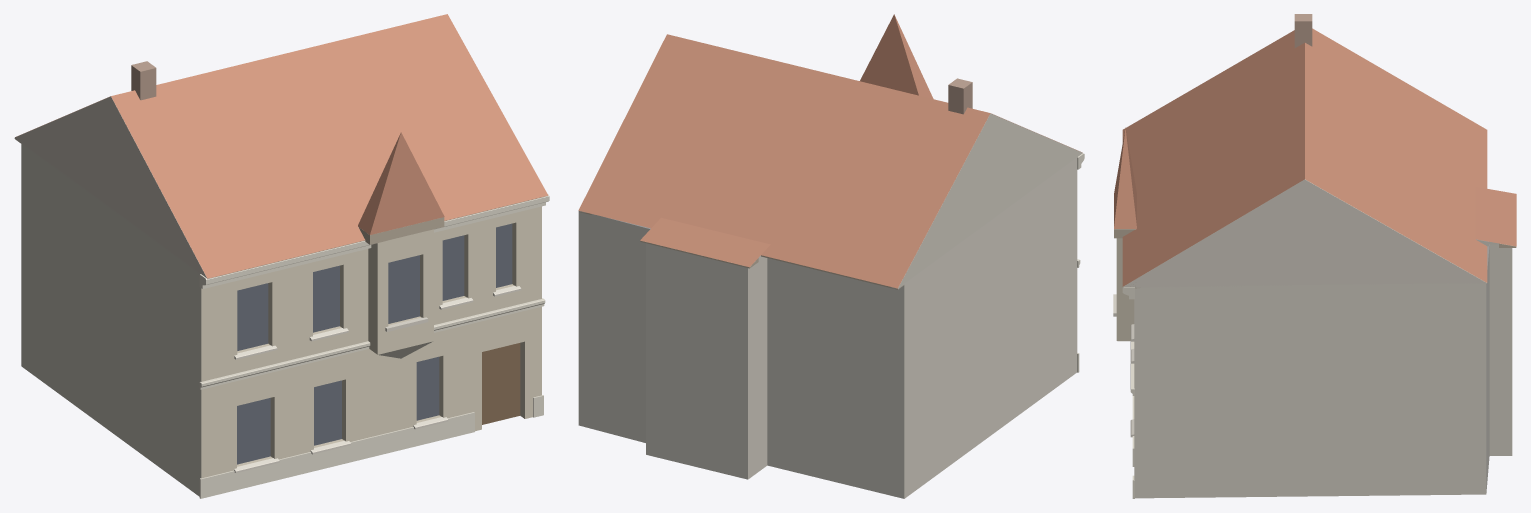
3 views of the same model, side by side, from view 1: azimuth 30°, elevation 25°; view 2: azimuth 150°, elevation 25°; view 3: azimuth 270°, elevation 25° (orthographic). The views are drawn at different scales.
Parts seen in each view (by area): view 1: CP_1192_Masonry, CP_1192_Roof, CP_1192_Gable_L_gable, CP_1192_Oriel_bay, CP_1192_Cornice_plinth_0, CP_1192_WingRoof_Oriel_bay, CP_1192_Cornice_main_0, CP_1192_Cornice_string_0, CP_1192_Chimney_0; view 2: CP_1192_Masonry, CP_1192_Roof, CP_1192_Gable_L_gable, CP_1192_WingRoof_RearWing, CP_1192_WingRoof_Oriel_bay, CP_1192_Chimney_0; view 3: CP_1192_Masonry, CP_1192_Roof, CP_1192_Gable_R_gable, CP_1192_WingRoof_RearWing, CP_1192_WingRoof_Oriel_bay, CP_1192_Oriel_bay, CP_1192_Chimney_0.
Part boxes in pixels (box(x1,y1,x2,y2)): CP_1192_Masonry: box(21, 143, 541, 496); CP_1192_Roof: box(15, 14, 548, 278); CP_1192_Gable_L_gable: box(14, 96, 214, 279); CP_1192_Oriel_bay: box(368, 229, 433, 354); CP_1192_Cornice_plinth_0: box(199, 412, 474, 498); CP_1192_WingRoof_Oriel_bay: box(358, 132, 444, 234); CP_1192_Cornice_main_0: box(199, 194, 549, 288); CP_1192_Cornice_string_0: box(199, 298, 545, 389); CP_1192_Chimney_0: box(131, 61, 156, 100); CP_1192_Masonry: box(578, 157, 1077, 498); CP_1192_Roof: box(578, 34, 1082, 288); CP_1192_Gable_L_gable: box(891, 113, 1082, 288); CP_1192_WingRoof_RearWing: box(640, 217, 770, 267); CP_1192_WingRoof_Oriel_bay: box(860, 14, 933, 98); CP_1192_Chimney_0: box(948, 78, 972, 114); CP_1192_Masonry: box(1134, 244, 1512, 498); CP_1192_Roof: box(1122, 28, 1487, 286); CP_1192_Gable_R_gable: box(1123, 179, 1486, 287); CP_1192_WingRoof_RearWing: box(1475, 186, 1516, 246); CP_1192_WingRoof_Oriel_bay: box(1114, 127, 1136, 228); CP_1192_Oriel_bay: box(1116, 238, 1134, 340); CP_1192_Chimney_0: box(1294, 14, 1312, 47).
Bounding box in the file's own units: 12.84 × 12.8 × 13.83.
